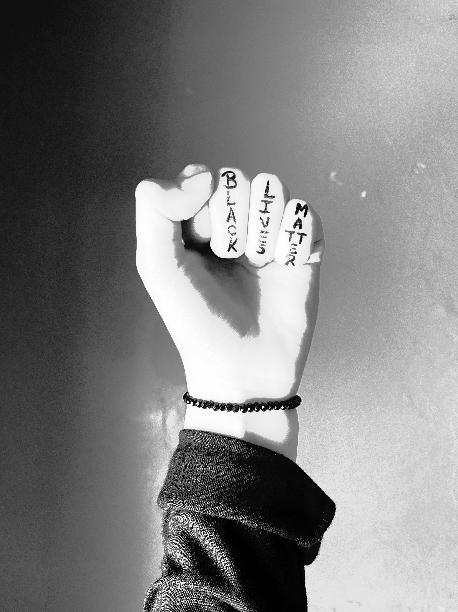Rock: (120, 152, 344, 407)
